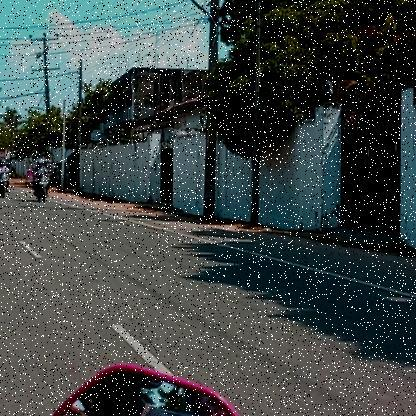motorcycle: (31, 172, 54, 204), (0, 170, 13, 199)
